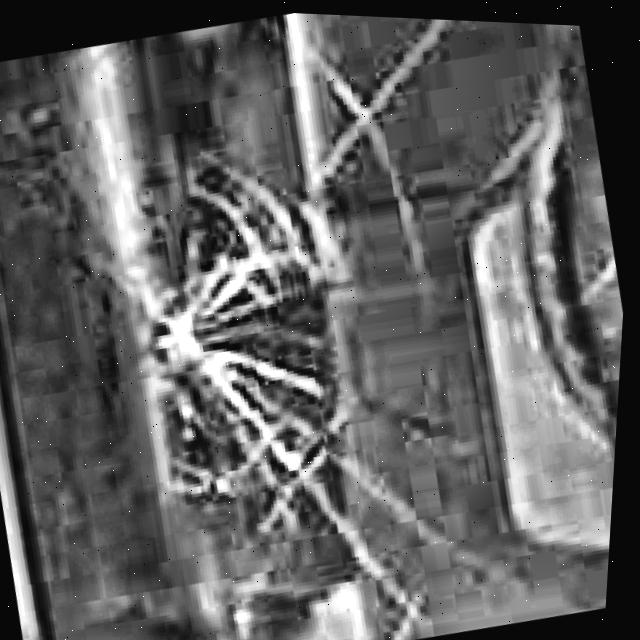glass_shatter: (60, 153, 378, 498)
